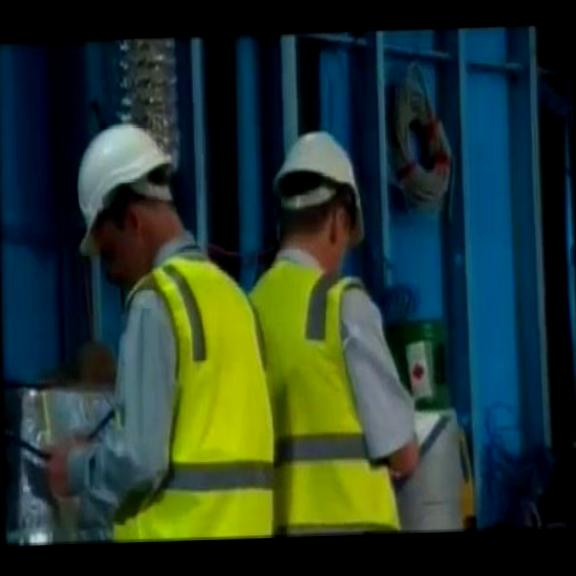safety_vest: (106, 248, 274, 541), (240, 254, 403, 535)
